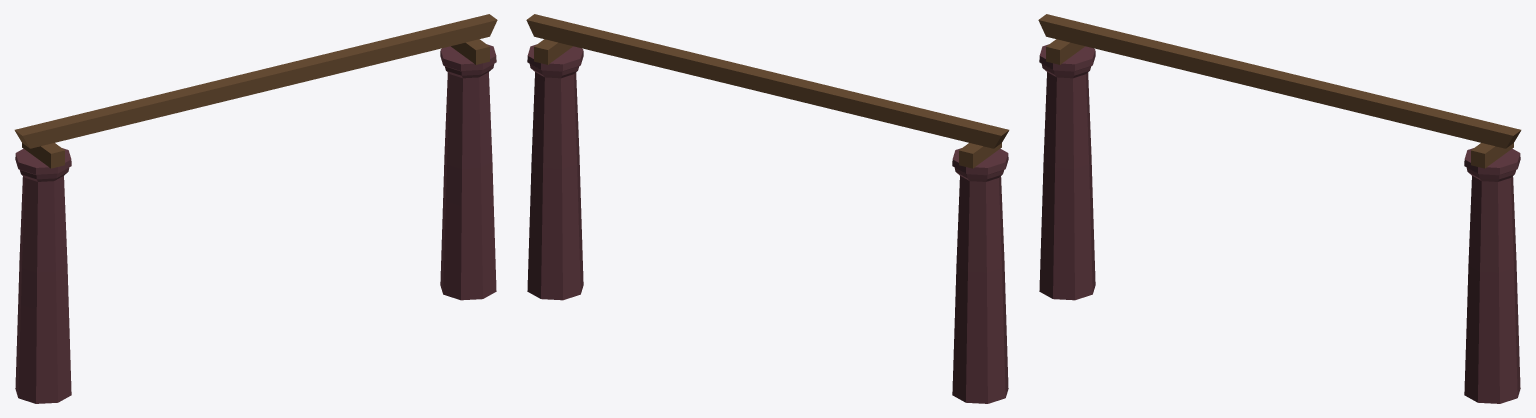
The model's file is empire-colonnade-end-empire.glb.
3 views of the same model, side by side, from view 1: azimuth 30°, elevation 25°; view 2: azimuth 150°, elevation 25°; view 3: azimuth 330°, elevation 25° (orthographic).
Visible parts, largest first — view 1: SM_Colonnade_End_Empire; view 2: SM_Colonnade_End_Empire; view 3: SM_Colonnade_End_Empire.
Boxes of the visible parts, x1,y1,x2,y2 form: SM_Colonnade_End_Empire: [14, 14, 497, 403]; SM_Colonnade_End_Empire: [526, 14, 1009, 403]; SM_Colonnade_End_Empire: [1038, 14, 1521, 403].
Size of the model in its own units: 6.71 by 3.58 by 0.7145.
